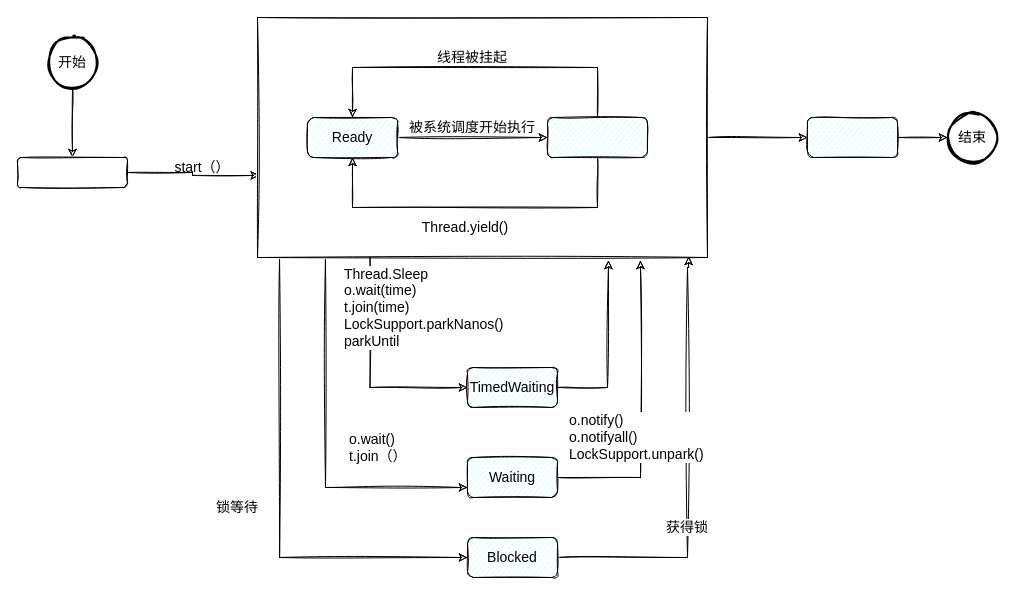
Some shapes in this 1016 by 595 pixel diagram are drawn without their labels. The centre of each missing label's shape, as x and y in pixels:
"new" goes at (x=72, y=172).
"Running" goes at (x=597, y=137).
"Teminated" goes at (x=852, y=137).
